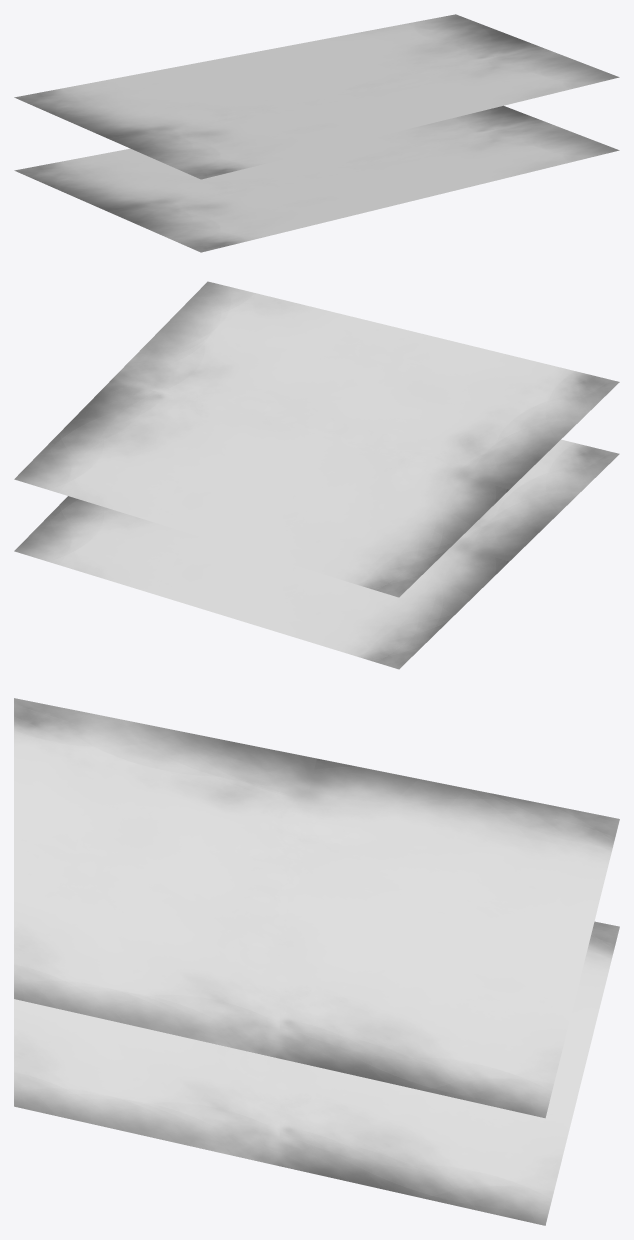
The model's file is CourseWinter_CurveFloor_1_1.fbx.
3 views of the same model, one above another, from view 1: azimuth 30°, elevation 25°; view 2: azimuth 150°, elevation 25°; view 3: azimuth 270°, elevation 25° (orthographic). The views are drawn at different scales.
Parts seen in each view (by area): view 1: polySurface625; view 2: polySurface625; view 3: polySurface625.
Boxes of the visible parts, left/top/right/bottom form: polySurface625: left=14, top=14, right=619, bottom=252; polySurface625: left=14, top=281, right=619, bottom=669; polySurface625: left=14, top=698, right=619, bottom=1225.
Size of the model in its own units: 6.23 by 2 by 5.1.
1 material, 1 textured.
